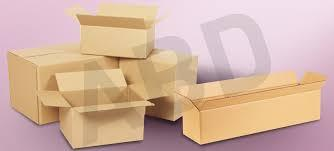Cardboard: (2, 1, 334, 151)
